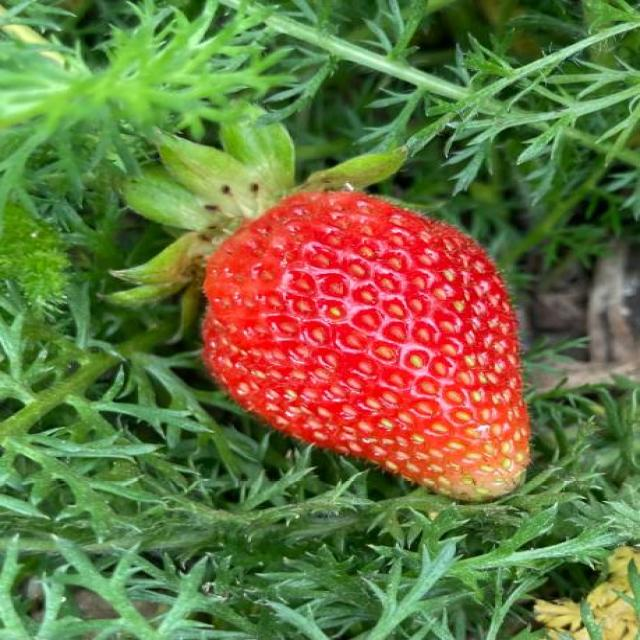Healthy Fruit: (203, 191, 527, 501)
